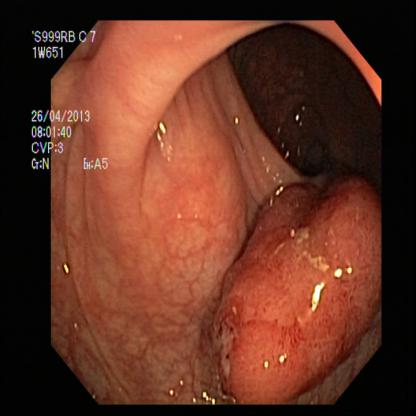Labels: (24, 25, 118, 174)
Polyps: (213, 201, 361, 394)
